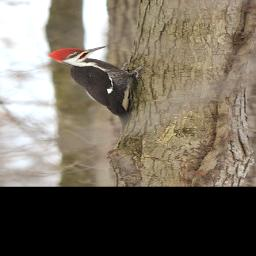Woodpecker: (46, 45, 150, 133)
